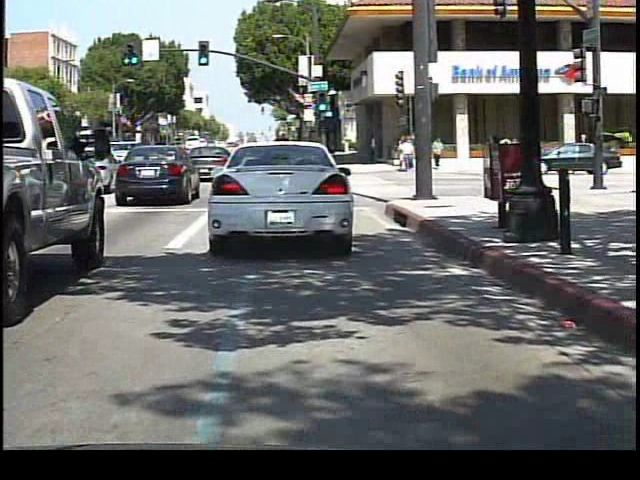person: (494, 134, 515, 174), (400, 136, 415, 177), (432, 135, 448, 171)
